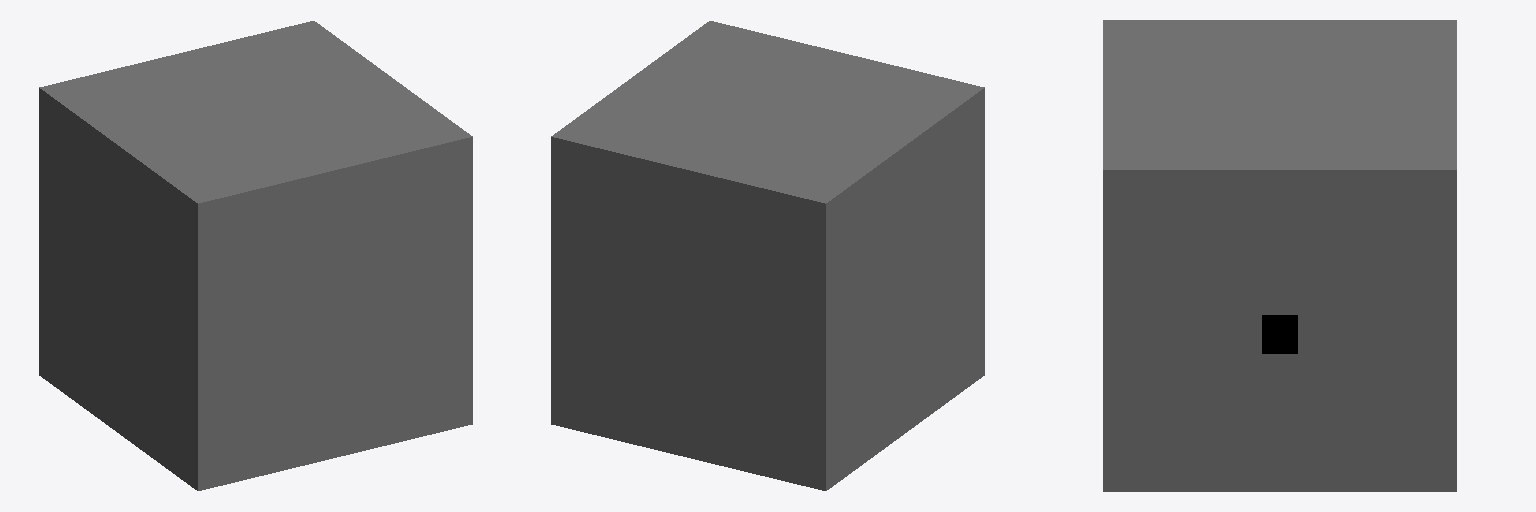
URDF robot description (simple_box):
<?xml version="1.0"?>
<robot name="simple_box">

  <!-- Link: base_link -->
  <link name="base_link">
    <visual>
      <geometry>
        <box size="1 1 1"/>
      </geometry>
      <material name="gray">
        <color rgba="0.5 0.5 0.5 1.0"/>
      </material>
    </visual>
    <collision>
      <geometry>
        <box size="1 1 1"/>
      </geometry>
    </collision>
    <inertial>
      <mass value="1.0"/>
      <inertia ixx="0.083" ixy="0.0" ixz="0.0" iyy="0.083" iyz="0.0" izz="0.083"/>
    </inertial>
  </link>

  <!-- Link: camera_link -->
  <link name="camera_link">
    <visual>
      <geometry>
        <box size="0.1 0.1 0.1"/>
      </geometry>
      <material name="black">
        <color rgba="0.0 0.0 0.0 1.0"/>
      </material>
    </visual>
    <collision>
      <geometry>
        <box size="0.1 0.1 0.1"/>
      </geometry>
    </collision>
    <inertial>
      <mass value="0.1"/>
      <inertia ixx="0.001" ixy="0.0" ixz="0.0" iyy="0.001" iyz="0.0" izz="0.001"/>
    </inertial>
  </link>

  <!-- Joint: camera_joint -->
  <joint name="camera_joint" type="fixed">
    <parent link="base_link"/>
    <child link="camera_link"/>
    <origin rpy="0 0 0" xyz="0.5 0 0"/>
  </joint>

  <!-- Gazebo plugin -->
  <gazebo>
    <plugin name="simple_box_controller" filename="libgazebo_ros_control.so"/>
  </gazebo>

  <!-- Gazebo camera plugin -->
  <gazebo>
    <sensor type="camera" name="camera_sensor">
      <update_rate>30.0</update_rate>
      <camera>
        <horizontal_fov>1.0472</horizontal_fov>
        <image>
          <width>640</width>
          <height>480</height>
          <format>R8G8B8</format>
        </image>
        <clip>
          <near>0.1</near>
          <far>100.0</far>
        </clip>
      </camera>
      <plugin name="camera_plugin" filename="libgazebo_ros_camera.so">
        <alwaysOn>true</alwaysOn>
        <updateRate>30.0</updateRate>
        <cameraName>camera</cameraName>
        <imageTopicName>camera/image_raw</imageTopicName>
        <cameraInfoTopicName>camera/camera_info</cameraInfoTopicName>
      </plugin>

    </sensor>
  </gazebo>

</robot>

--- Facts derived from the render (not from the file) ---
The picture shows the robot from 3 angles, left to right: view 1: azimuth 30°, elevation 25°; view 2: azimuth 150°, elevation 25°; view 3: azimuth 270°, elevation 25°; orthographic projection.
Model simple_box with 2 links and 1 joints (1 fixed), rooted at base_link, posed all joints at 0.
Visible links, largest first — view 1: base_link; view 2: base_link; view 3: base_link, camera_link.
Boxes of the visible links, bbox=[...] form: base_link: bbox=[39, 21, 472, 490]; base_link: bbox=[551, 21, 984, 490]; base_link: bbox=[1103, 20, 1456, 491]; camera_link: bbox=[1262, 315, 1297, 353].
Size in the robot's own frame: 1.05 by 1 by 1 metres.
Geometry: primitives only (box / cylinder / sphere), no mesh files.
